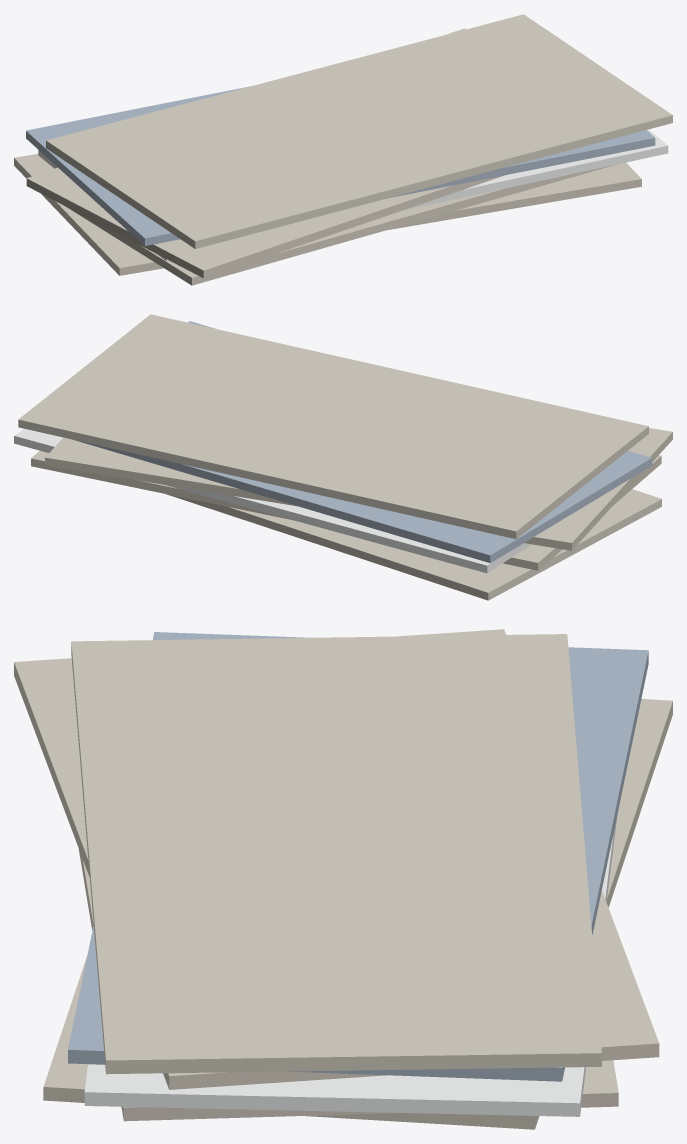
The model's file is mail-pile.gltf.
3 renders of one model, top to bottom at view 1: azimuth 30°, elevation 25°; view 2: azimuth 150°, elevation 25°; view 3: azimuth 270°, elevation 25°, orthographic. The views are drawn at different scales.
Parts seen in each view (by area): view 1: env_5, env_3, env_4, env_0, env_1, env_2; view 2: env_5, env_4, env_0, env_3, env_2, env_1; view 3: env_5, env_4, env_2, env_3, env_0, env_1.
Boxes of the visible parts, x1,y1,x2,y2 form: env_5: (46, 14, 672, 248); env_3: (26, 28, 504, 278); env_4: (26, 86, 655, 245); env_0: (14, 153, 641, 275); env_1: (67, 164, 615, 285); env_2: (38, 129, 668, 261); env_5: (18, 314, 648, 539); env_4: (73, 321, 652, 563); env_0: (166, 489, 661, 600); env_3: (45, 428, 672, 550); env_2: (14, 429, 531, 573); env_1: (31, 451, 661, 570); env_5: (71, 634, 601, 1074); env_4: (68, 632, 648, 1081); env_2: (84, 814, 617, 1116); env_3: (14, 629, 659, 1089); env_0: (43, 699, 672, 1129); env_1: (78, 849, 618, 1121).
Size of the model in its own units: 0.0158 by 0.00131 by 0.00955.
